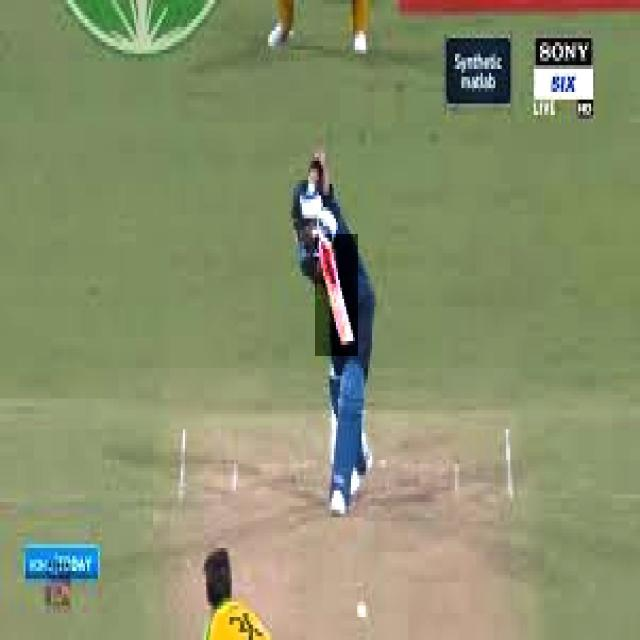bat: (316, 233, 360, 351)
toe: (324, 333, 360, 350)
